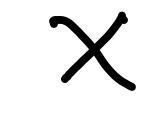mult: (49, 11, 136, 92)
